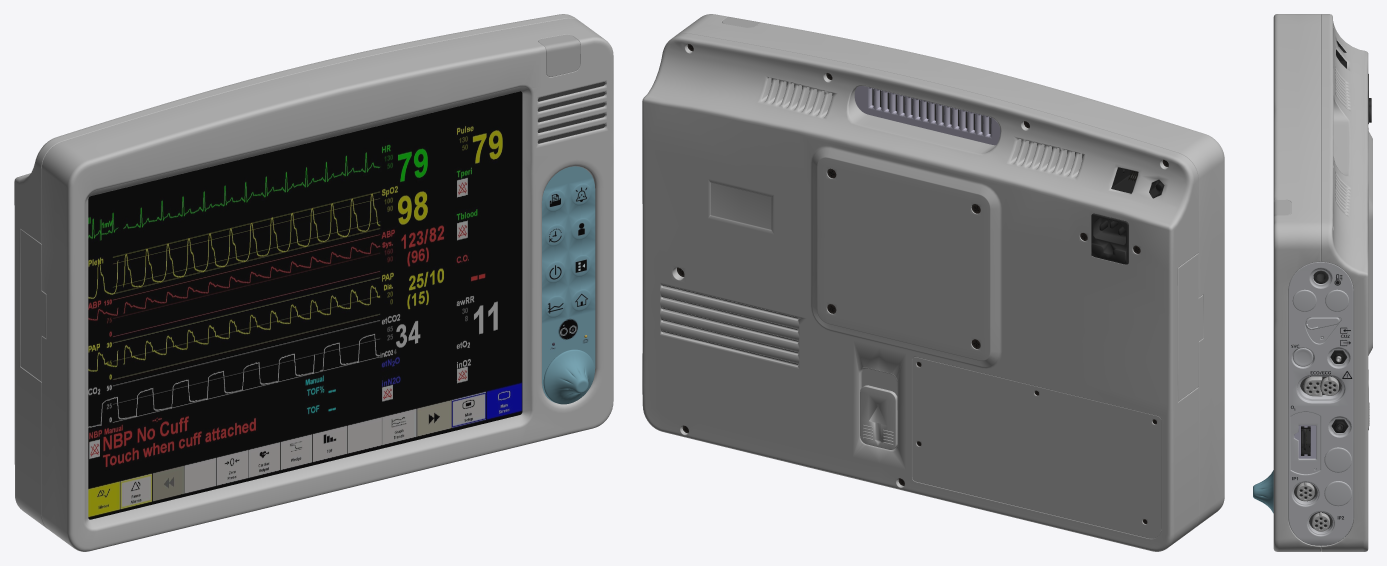
3 views of the same model, side by side, from view 1: azimuth 30°, elevation 25°; view 2: azimuth 150°, elevation 25°; view 3: azimuth 270°, elevation 25° (orthographic). The views are drawn at different scales.
Parts seen in each view (by area): view 1: display_0, patientMonitor_body_2, selectMenu_1, selectMenu_0, patientMonitor_body_0, patientMonitor_body_4; view 2: patientMonitor_body_2, patientMonitor_body_1, connectorsPlastic_0, patientMonitor_body_0, connectorsChrome_0, patientMonitor_body_3; view 3: patientMonitor_body_2, sidePanel_5, sidePanel_4, sidePanel_6, sidePanel_1, selectMenu_0, sidePanel_3, patientMonitor_body_4, sidePanel_2.
Part boxes in pixels (x1,y1,x2,y2): display_0: (88,91,522,519); patientMonitor_body_2: (14,14,613,551); selectMenu_1: (542,166,595,402); selectMenu_0: (543,349,594,404); patientMonitor_body_0: (538,82,605,143); patientMonitor_body_4: (538,35,580,76); patientMonitor_body_2: (642,14,1224,551); patientMonitor_body_1: (854,86,1000,145); connectorsPlastic_0: (1091,170,1138,264); patientMonitor_body_0: (662,78,1083,364); connectorsChrome_0: (1099,167,1164,235); patientMonitor_body_3: (677,44,1168,523); patientMonitor_body_2: (1273,14,1372,551); sidePanel_5: (1288,262,1353,545); sidePanel_4: (1296,356,1341,531); sidePanel_6: (1300,350,1348,528); sidePanel_1: (1294,376,1341,529); selectMenu_0: (1253,470,1273,513); sidePanel_3: (1294,425,1316,458); patientMonitor_body_4: (1273,199,1291,217); sidePanel_2: (1303,270,1343,450).
Size of the model in its own units: 14.32 by 10 by 3.22.
